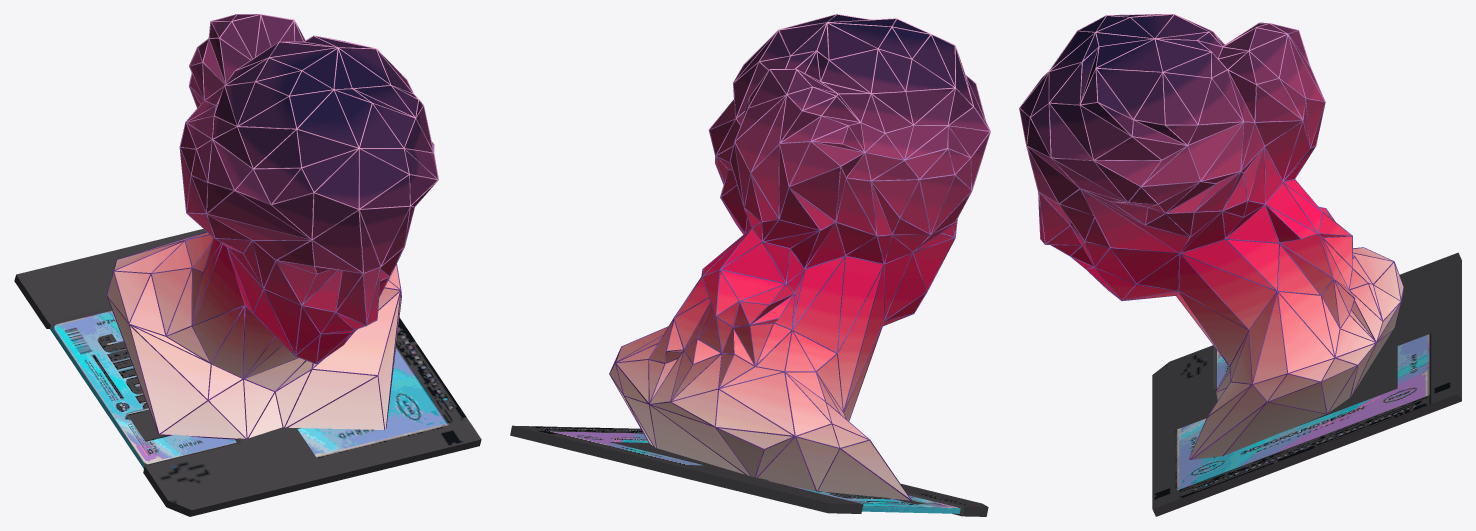
File: Structure_Venus_01_Floating_Art.fbx
3 renders of one model, left to right at view 1: azimuth 30°, elevation 25°; view 2: azimuth 150°, elevation 25°; view 3: azimuth 270°, elevation 25°, orthographic. The views are drawn at different scales.
Parts seen in each view (by area): view 1: Structure_Venus_01_Floating_Art, Structure_Computer_FloppyDisk_Floating, Structure_Venus_Floating; view 2: Structure_Venus_01_Floating_Art, Structure_Venus_Floating, Structure_Computer_FloppyDisk_Floating; view 3: Structure_Venus_01_Floating_Art, Structure_Computer_FloppyDisk_Floating, Structure_Venus_Floating.
Part boxes in pixels (x1=…): Structure_Venus_01_Floating_Art: x1=107, y1=14, x2=437, y2=438; Structure_Computer_FloppyDisk_Floating: x1=14, y1=229, x2=481, y2=516; Structure_Venus_Floating: x1=106, y1=14, x2=438, y2=439; Structure_Venus_01_Floating_Art: x1=610, y1=14, x2=989, y2=500; Structure_Venus_Floating: x1=609, y1=14, x2=990, y2=501; Structure_Computer_FloppyDisk_Floating: x1=510, y1=425, x2=988, y2=516; Structure_Venus_01_Floating_Art: x1=1020, y1=14, x2=1403, y2=459; Structure_Computer_FloppyDisk_Floating: x1=1152, y1=252, x2=1461, y2=516; Structure_Venus_Floating: x1=1019, y1=14, x2=1403, y2=459.
Size of the model in its own units: 2.51 by 3.42 by 3.33.
